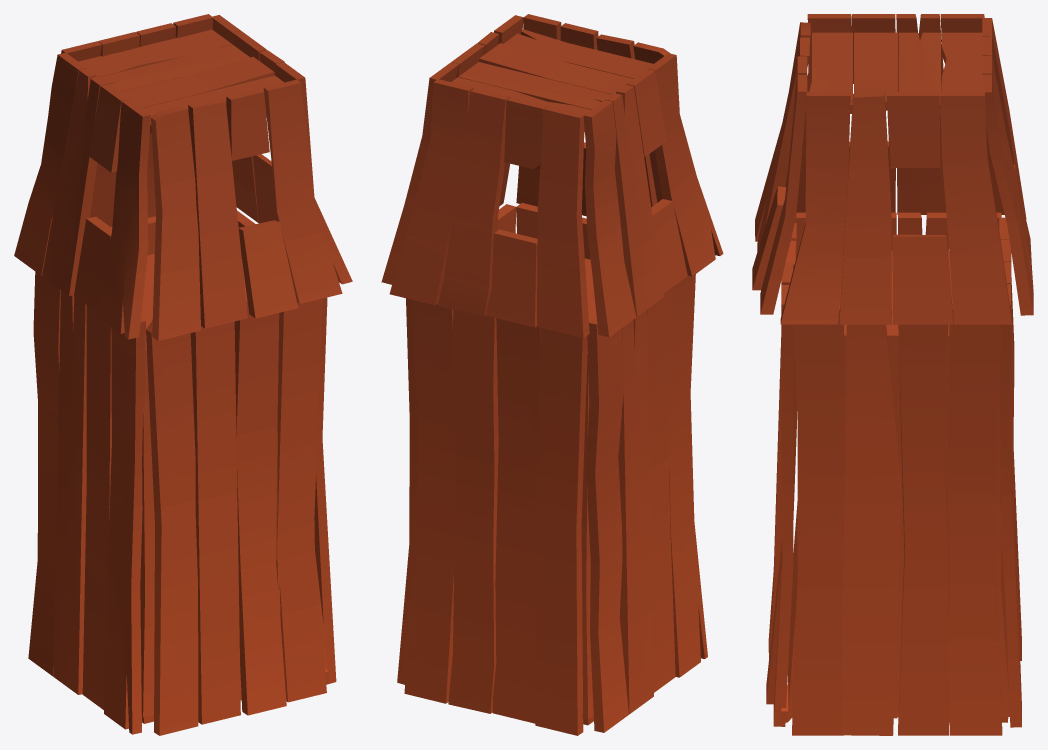
The model's file is m_towerMusquet_01.fbx.
The picture shows the model from 3 angles, left to right: view 1: azimuth 30°, elevation 25°; view 2: azimuth 150°, elevation 25°; view 3: azimuth 270°, elevation 25°; orthographic projection. The views are drawn at different scales.
Parts seen in each view (by area): view 1: Cube; view 2: Cube; view 3: Cube.
Boxes of the visible parts, box(x1,y1,x2,y2) form: Cube: box(14, 14, 352, 735); Cube: box(381, 14, 723, 735); Cube: box(752, 14, 1033, 735).
Bounding box in the file's own units: 234 × 595 × 241.
